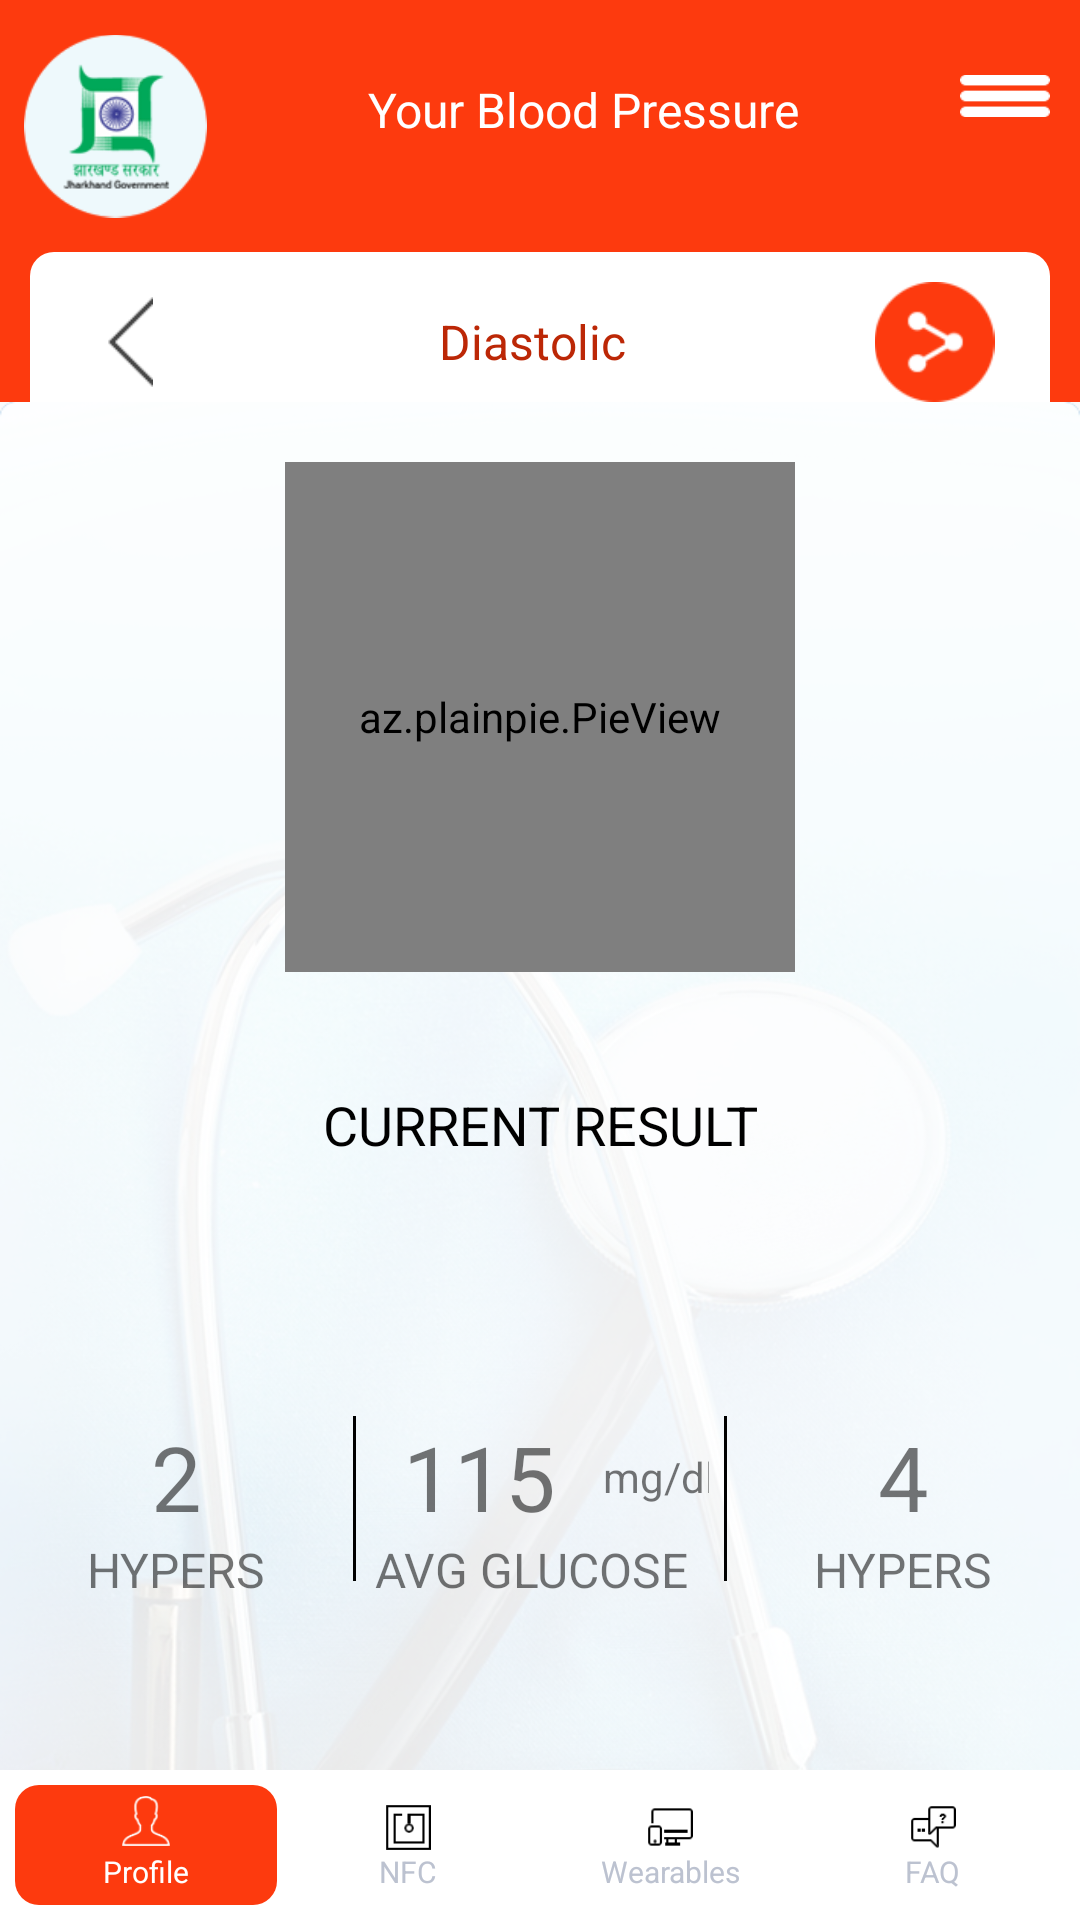

Icon bounding boxes for this 1080w x 1920h phone screenshot, format (x1=x1, y1=y1, x2=x2, y2=y2):
back: (x1=108, y1=297, x2=153, y2=387)
menu: (x1=960, y1=75, x2=1050, y2=117)
share: (x1=875, y1=282, x2=995, y2=402)
